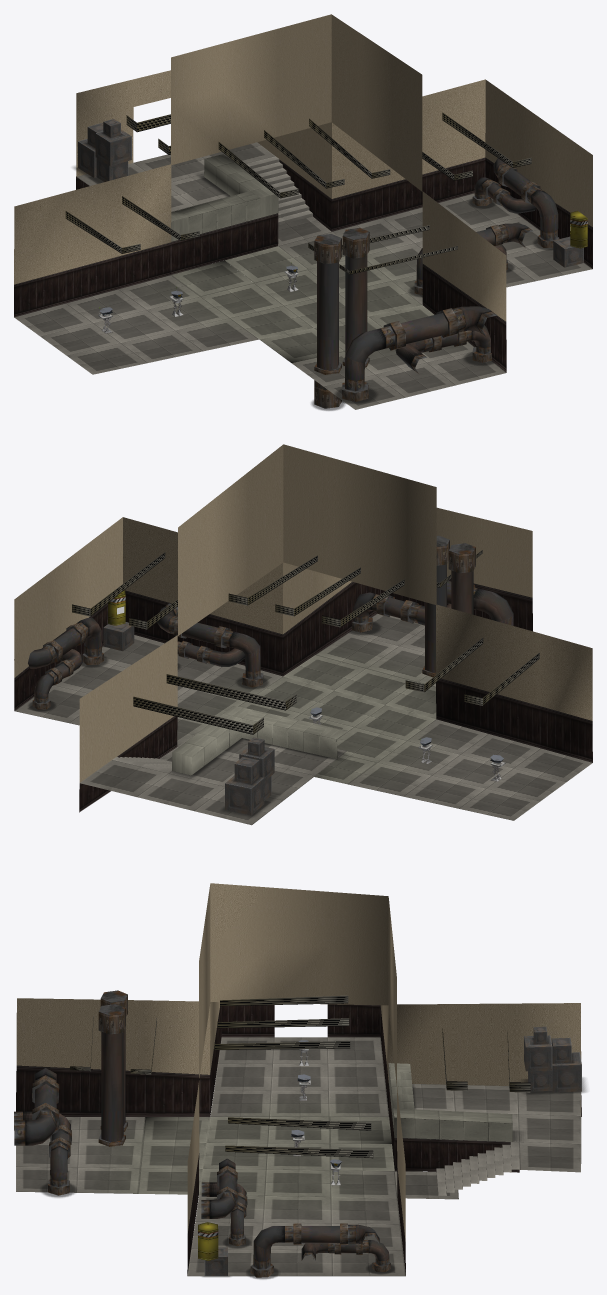
File: room_5.glb
3 views of the same model, one above another, from view 1: azimuth 30°, elevation 25°; view 2: azimuth 150°, elevation 25°; view 3: azimuth 270°, elevation 25° (orthographic).
Parts seen in each view (by area): view 1: wall, floor, wall22, Borders, LargeStraightPipe2 (×2), platform_wall, LargePipe1Elbow2 (×2), stairs, new_End5 (×2), F1MetalBox2, LargeStraightPipe1, LargePipe1Elbow1 (+11 smaller); view 2: wall, floor, wall22, Borders, LargeStraightPipe2 (×2), LargePipe1Elbow2 (×2), Lights9, Lights10, F1MetalBox5, LargePipe2Elbow2, new_End5, Lights6 (+11 smaller); view 3: floor, wall, wall22, Borders, platform_wall, LargeStraightPipe2, stairs, Lights6, LargePipe1Elbow1, Lights7, LargePipe1Elbow2, Lights4 (+9 smaller).
Boxes of the visible parts, x1=… form: wall: x1=14, y1=14, x2=592, y2=321; floor: x1=14, y1=142, x2=592, y2=409; wall22: x1=14, y1=157, x2=592, y2=372; Borders: x1=170, y1=154, x2=278, y2=241; LargeStraightPipe2 (×2): x1=317, y1=255, x2=367, y2=370; platform_wall: x1=171, y1=213, x2=278, y2=274; LargePipe1Elbow2 (×2): x1=345, y1=186, x2=558, y2=391; stairs: x1=246, y1=156, x2=312, y2=225; new_End5 (×2): x1=314, y1=227, x2=369, y2=264; F1MetalBox2: x1=95, y1=129, x2=131, y2=165; LargeStraightPipe1: x1=401, y1=313, x2=448, y2=344; LargePipe1Elbow1: x1=452, y1=306, x2=496, y2=337; wall: x1=14, y1=444, x2=592, y2=782; floor: x1=14, y1=613, x2=592, y2=825; wall22: x1=14, y1=578, x2=592, y2=812; Borders: x1=172, y1=705, x2=347, y2=775; LargeStraightPipe2 (×2): x1=425, y1=564, x2=473, y2=672; LargePipe1Elbow2 (×2): x1=76, y1=587, x2=513, y2=656; Lights9: x1=133, y1=696, x2=263, y2=734; Lights10: x1=166, y1=674, x2=296, y2=710; F1MetalBox5: x1=225, y1=775, x2=264, y2=815; LargePipe2Elbow2: x1=222, y1=630, x2=260, y2=679; new_End5: x1=448, y1=543, x2=475, y2=573; Lights6: x1=72, y1=552, x2=165, y2=616; floor: x1=16, y1=1037, x2=581, y2=1276; wall: x1=16, y1=883, x2=581, y2=1241; wall22: x1=16, y1=1004, x2=581, y2=1275; Borders: x1=388, y1=1063, x2=512, y2=1141; platform_wall: x1=389, y1=1086, x2=519, y2=1172; LargeStraightPipe2: x1=101, y1=1031, x2=123, y2=1142; stairs: x1=436, y1=1141, x2=519, y2=1198; Lights6: x1=225, y1=1145, x2=373, y2=1158; LargePipe1Elbow1: x1=14, y1=1110, x2=56, y2=1145; Lights7: x1=228, y1=1117, x2=371, y2=1130; LargePipe1Elbow2: x1=253, y1=1226, x2=293, y2=1269; Lights4: x1=214, y1=1040, x2=350, y2=1049.
Size of the model in its own units: 139 by 70.72 by 138.
24 materials, 23 textured.
